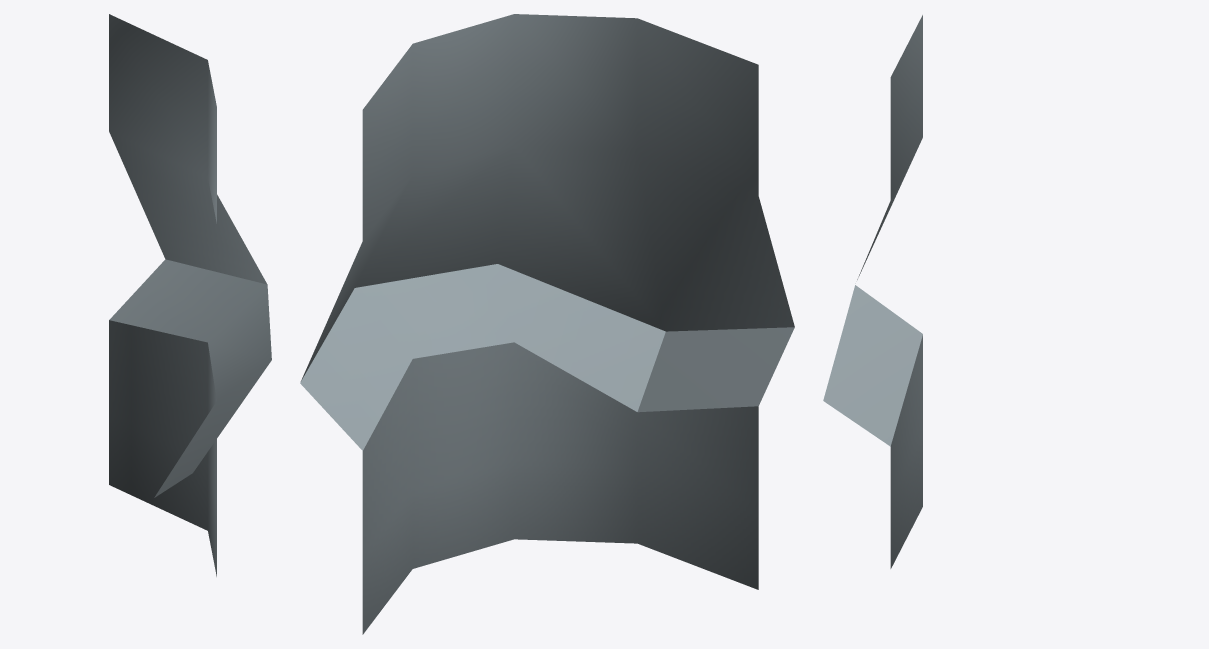
The model's file is cliff_inner_a.glb.
3 renders of one model, left to right at view 1: azimuth 30°, elevation 25°; view 2: azimuth 150°, elevation 25°; view 3: azimuth 270°, elevation 25°, orthographic. The views are drawn at different scales.
Parts seen in each view (by area): view 1: Hill_Cliff_A_InnerCorner_Color1; view 2: Hill_Cliff_A_InnerCorner_Color1; view 3: Hill_Cliff_A_InnerCorner_Color1.
Part boxes in pixels (x1,y1,x2,y2): Hill_Cliff_A_InnerCorner_Color1: (109,14,271,576); Hill_Cliff_A_InnerCorner_Color1: (300,14,794,634); Hill_Cliff_A_InnerCorner_Color1: (823,15,922,568).
Bounding box in the file's own units: 1.37 × 2 × 1.37.
1 material, 1 textured.
